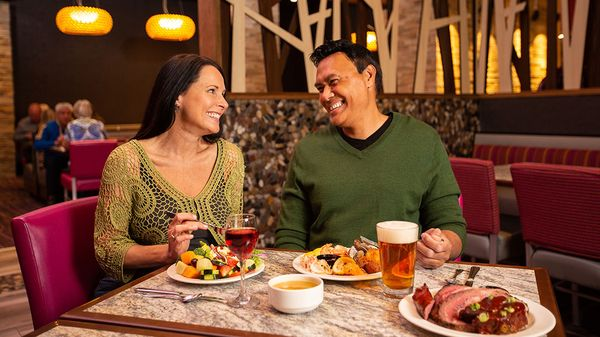pizza: (375, 220, 420, 294)
sushi: (267, 273, 324, 314)
